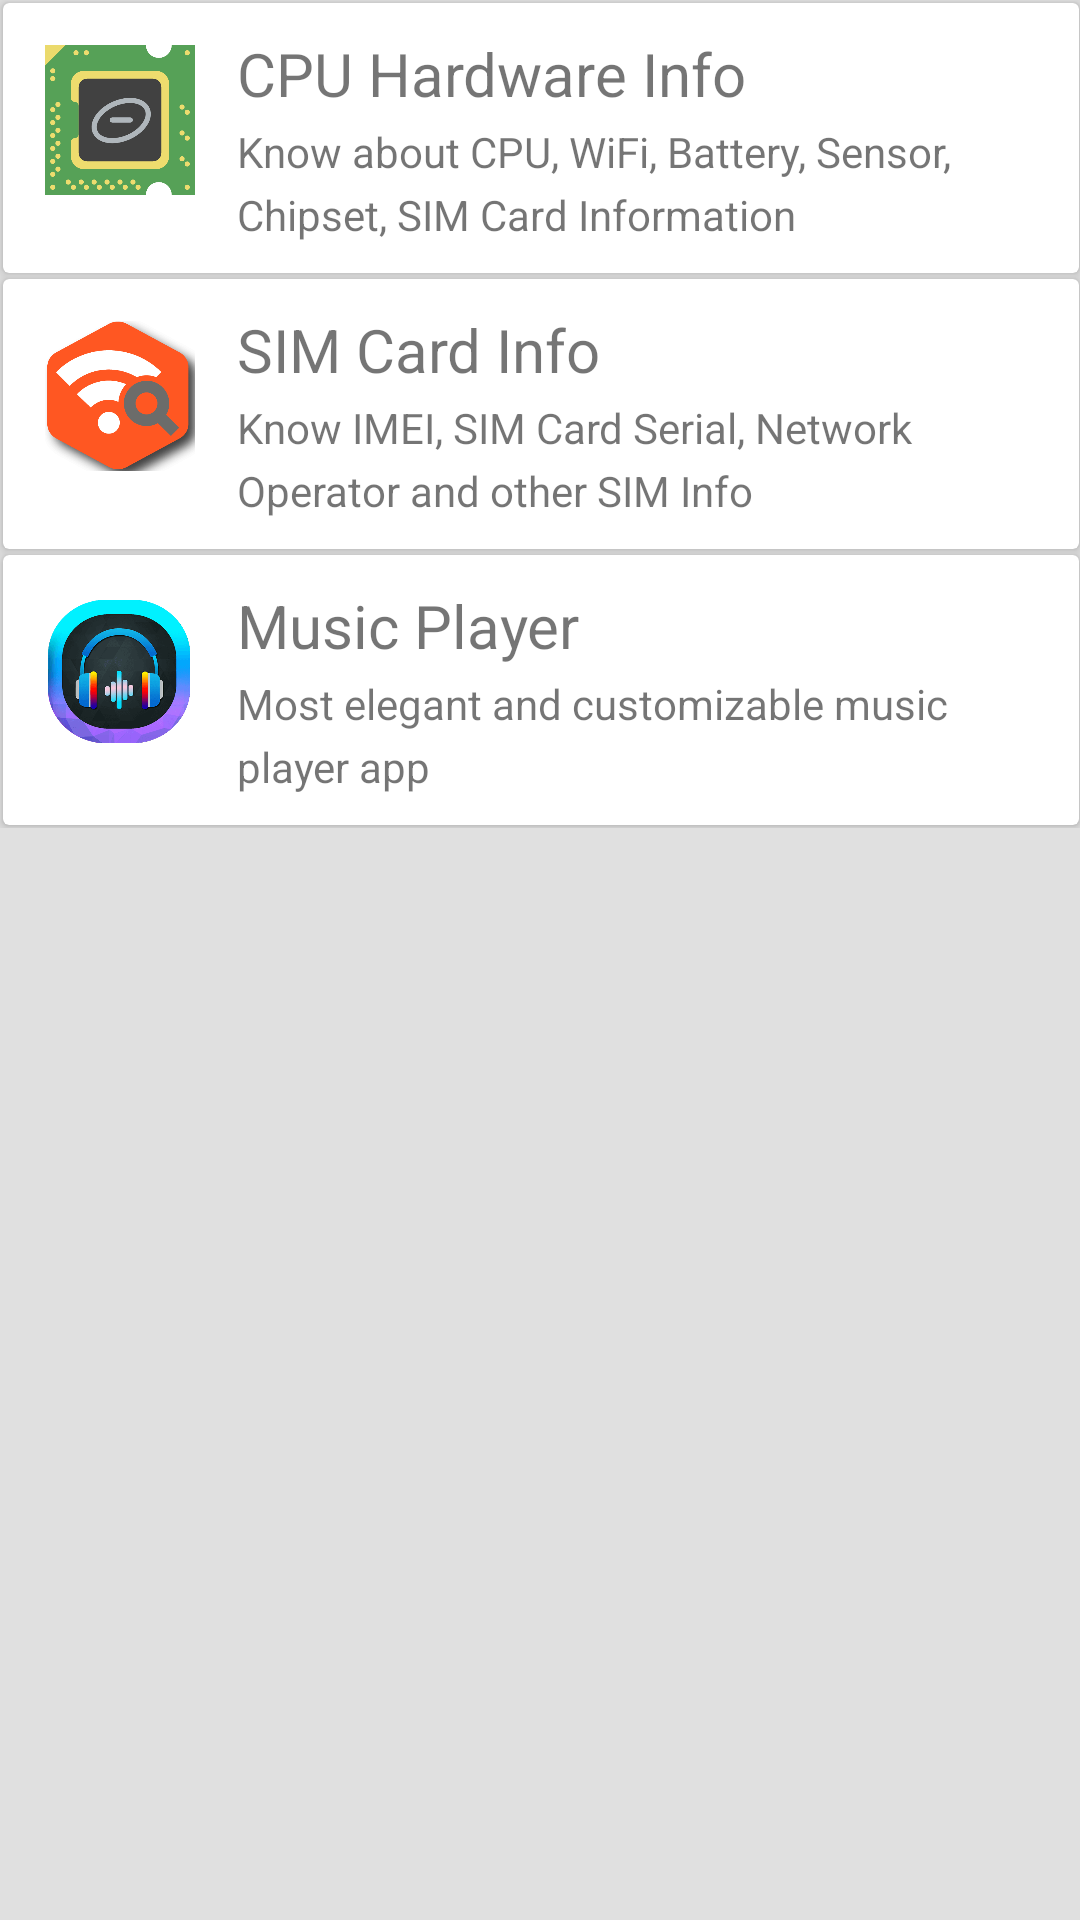

Locate icon controls on the screen. Image size 1080*1920, boxes as detection(x1, y1, x2, y2).
cpu info app: detection(45, 45, 195, 195)
